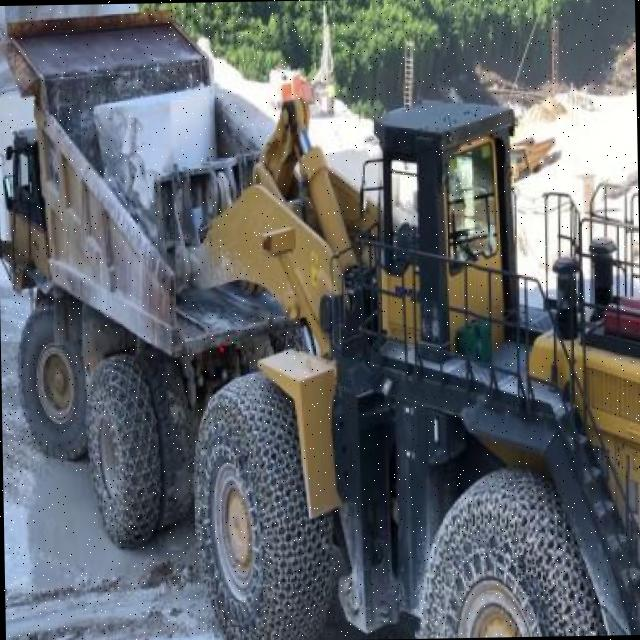Dump Truck: (0, 7, 194, 546)
Loader: (156, 66, 640, 640)
